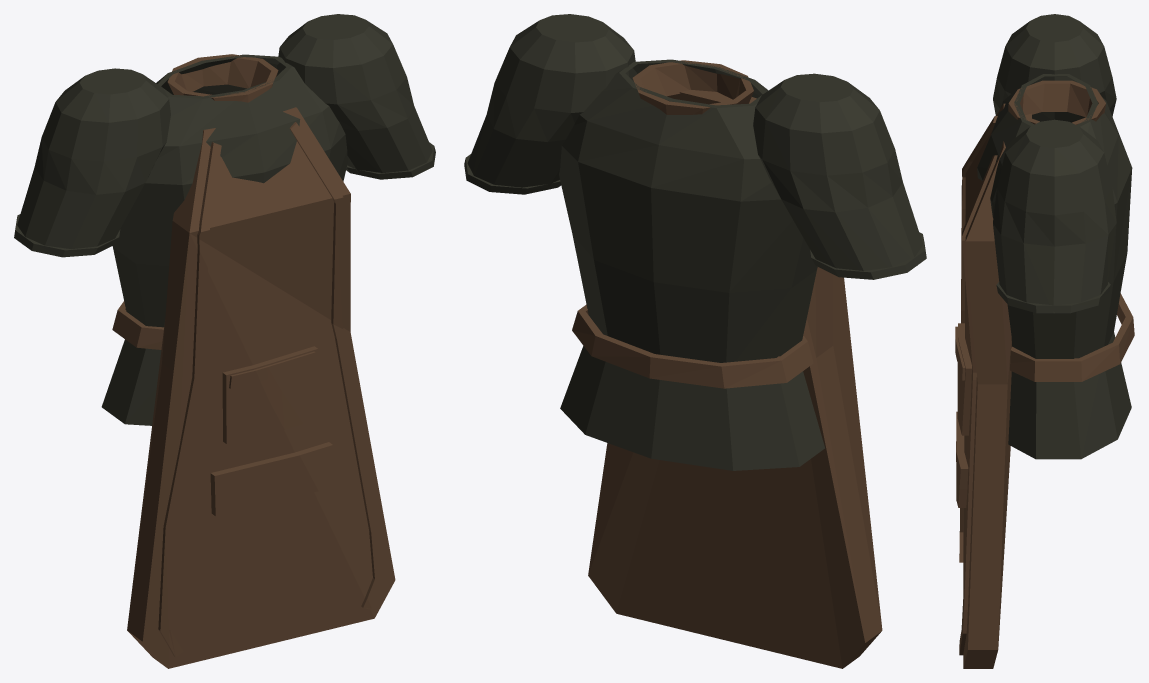
The model's file is leather_apron-female-thickHide.glb.
3 renders of one model, left to right at view 1: azimuth 30°, elevation 25°; view 2: azimuth 150°, elevation 25°; view 3: azimuth 270°, elevation 25°, orthographic. The views are drawn at different scales.
Parts seen in each view (by area): view 1: Leather apron bib and skirt, Apron cloth undershirt, workshirt upper sleeve -1, workshirt upper sleeve 1, Apron stitched border -1, Apron working pocket, Heavy hide binding Leather apron bib and skirt, Apron stitched border 1, Apron continuous neck loop, Apron waist tie, Pocket turned lip, Sleeve cuff binding -1 (+1 smaller); view 2: Apron cloth undershirt, Leather apron bib and skirt, workshirt upper sleeve -1, workshirt upper sleeve 1, Apron waist tie, Apron continuous neck loop, Sleeve cuff binding -1, Sleeve cuff binding 1; view 3: Apron cloth undershirt, workshirt upper sleeve 1, Leather apron bib and skirt, workshirt upper sleeve -1, Apron waist tie, Apron continuous neck loop, Apron stitched border 1, Apron working pocket, Apron stitched border -1, Sleeve cuff binding 1, Heavy hide binding Leather apron bib and skirt.
Part boxes in pixels (x1=…): Leather apron bib and skirt: x1=127, y1=107, x2=395, y2=668; Apron cloth undershirt: x1=101, y1=54, x2=347, y2=425; workshirt upper sleeve -1: x1=17, y1=68, x2=170, y2=249; workshirt upper sleeve 1: x1=276, y1=14, x2=432, y2=174; Apron stitched border -1: x1=158, y1=142, x2=221, y2=657; Apron working pocket: x1=222, y1=346, x2=319, y2=443; Heavy hide binding Leather apron bib and skirt: x1=210, y1=442, x2=333, y2=516; Apron stitched border 1: x1=289, y1=122, x2=383, y2=609; Apron continuous neck loop: x1=167, y1=54, x2=278, y2=102; Apron waist tie: x1=112, y1=301, x2=163, y2=349; Pocket turned lip: x1=229, y1=351, x2=316, y2=388; Sleeve cuff binding -1: x1=14, y1=214, x2=120, y2=257; Apron cloth undershirt: x1=559, y1=59, x2=824, y2=470; Leather apron bib and skirt: x1=588, y1=90, x2=882, y2=668; workshirt upper sleeve -1: x1=753, y1=73, x2=923, y2=270; workshirt upper sleeve 1: x1=467, y1=14, x2=637, y2=189; Apron waist tie: x1=572, y1=304, x2=813, y2=388; Apron continuous neck loop: x1=632, y1=60, x2=753, y2=114; Sleeve cuff binding -1: x1=810, y1=232, x2=926, y2=279; Sleeve cuff binding 1: x1=464, y1=154, x2=560, y2=194; Apron cloth undershirt: x1=977, y1=74, x2=1132, y2=459; workshirt upper sleeve 1: x1=993, y1=119, x2=1116, y2=313; Leather apron bib and skirt: x1=963, y1=103, x2=1031, y2=668; workshirt upper sleeve -1: x1=993, y1=14, x2=1116, y2=122; Apron waist tie: x1=1010, y1=293, x2=1134, y2=381; Apron continuous neck loop: x1=1008, y1=80, x2=1105, y2=124; Apron stitched border 1: x1=959, y1=155, x2=997, y2=655; Apron working pocket: x1=957, y1=323, x2=971, y2=435; Apron stitched border -1: x1=959, y1=116, x2=997, y2=562; Sleeve cuff binding 1: x1=996, y1=282, x2=1110, y2=313; Heavy hide binding Leather apron bib and skirt: x1=956, y1=411, x2=968, y2=507.
Size of the model in its own units: 3.03 by 3.97 by 1.2.
